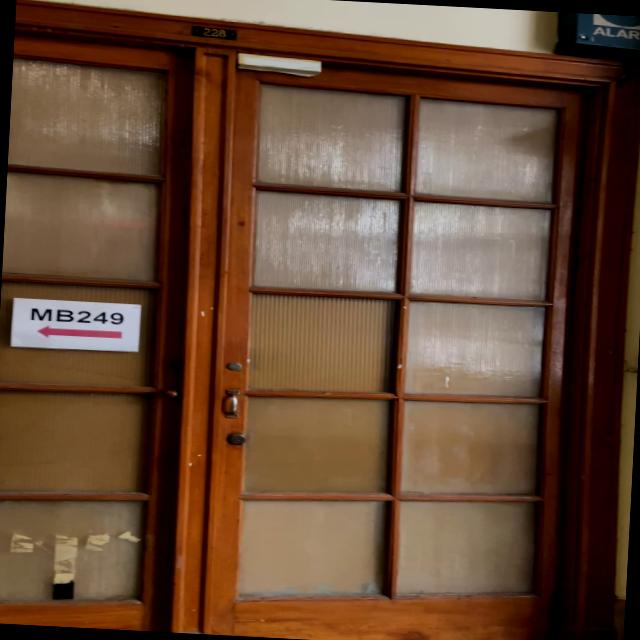room228: (190, 24, 240, 41)
